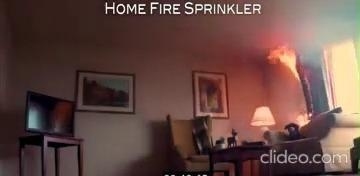fire: (261, 33, 318, 98)
